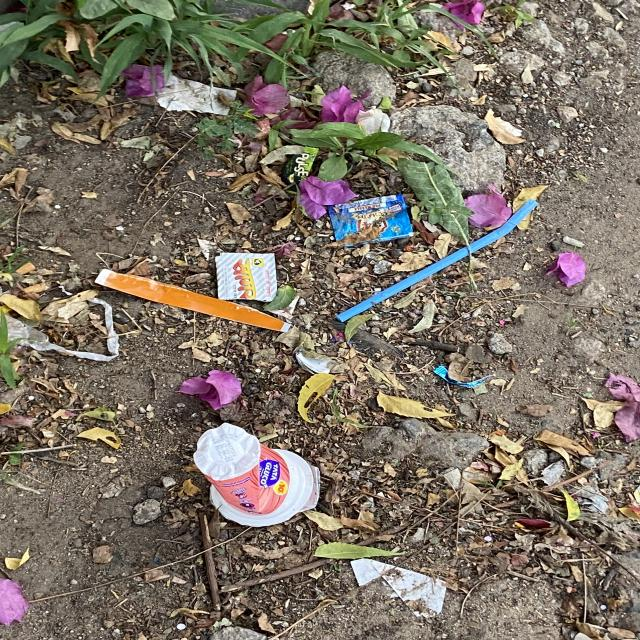plastic: (193, 424, 319, 528)
wrapper: (327, 194, 414, 244), (215, 252, 277, 302), (281, 146, 318, 185)
